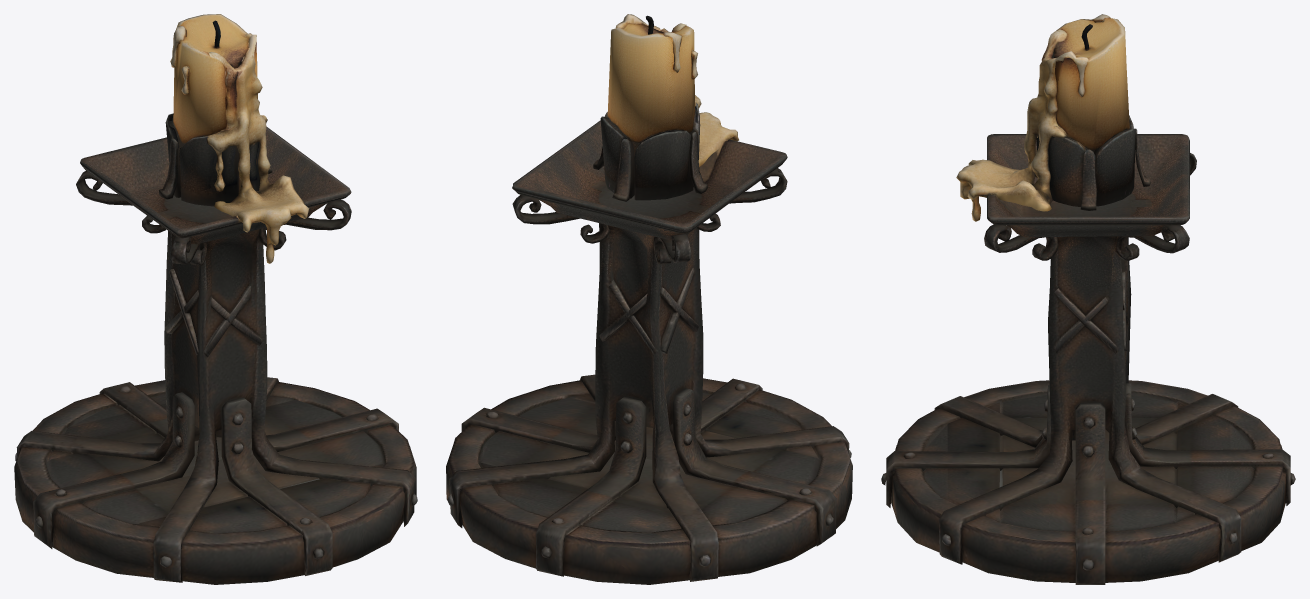
File: candle.glb
3 views of the same model, side by side, from view 1: azimuth 30°, elevation 25°; view 2: azimuth 150°, elevation 25°; view 3: azimuth 270°, elevation 25° (orthographic).
Visible parts, largest first — view 1: tripo_node_ffbd2751-32c0-4c87-a528-71aacae87769; view 2: tripo_node_ffbd2751-32c0-4c87-a528-71aacae87769; view 3: tripo_node_ffbd2751-32c0-4c87-a528-71aacae87769.
Boxes of the visible parts, x1,y1,x2,y2 form: tripo_node_ffbd2751-32c0-4c87-a528-71aacae87769: (14,14,417,584); tripo_node_ffbd2751-32c0-4c87-a528-71aacae87769: (446,14,852,584); tripo_node_ffbd2751-32c0-4c87-a528-71aacae87769: (881,14,1295,584).
Size of the model in its own units: 0.7871 by 0.998 by 0.7871.
1 material, 1 textured.
